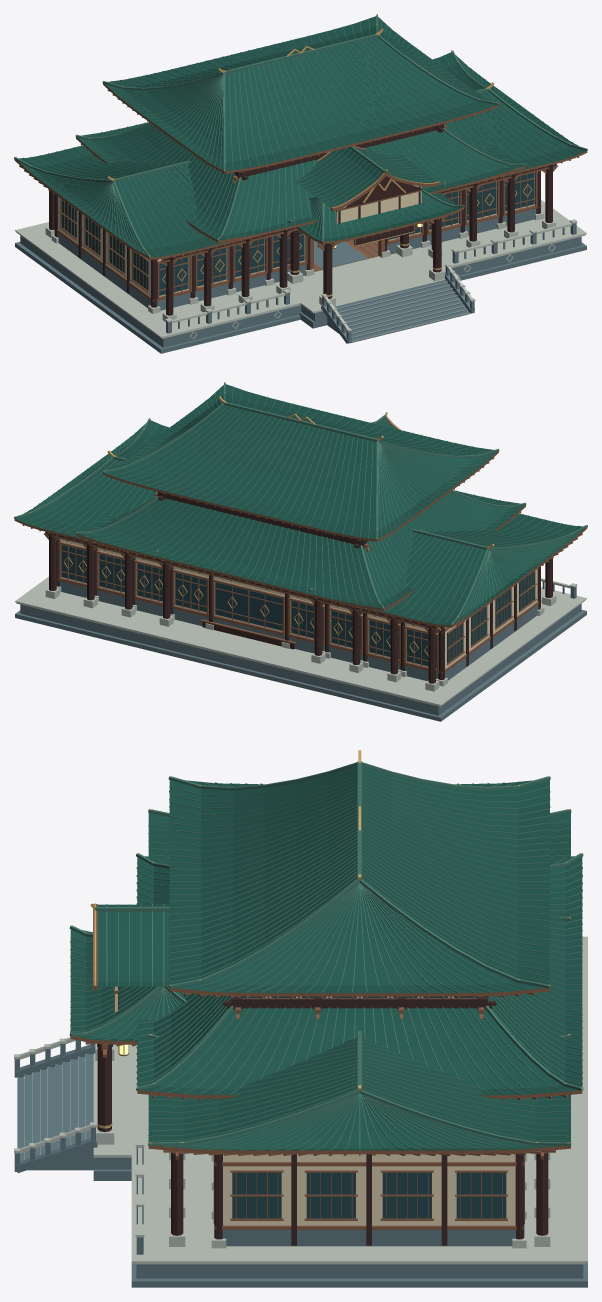
File: main_sect_hall_lod.glb
3 renders of one model, top to bottom at view 1: azimuth 30°, elevation 25°; view 2: azimuth 150°, elevation 25°; view 3: azimuth 270°, elevation 25°, orthographic. The views are drawn at different scales.
Visible parts, largest first — view 1: Hall / Jade, Hall / TileLight, Hall / Coping, Hall / Stone, Hall / Cedar, Hall / Timber, Hall / Window, Hall / Plaster, Hall / Bronze; view 2: Hall / Jade, Hall / TileLight, Hall / Coping, Hall / Stone, Hall / Cedar, Hall / Window, Hall / Timber, Hall / Plaster, Hall / Bronze; view 3: Hall / Jade, Hall / TileLight, Hall / Coping, Hall / Stone, Hall / Cedar, Hall / Timber, Hall / Window, Hall / Plaster.
Part boxes in pixels (<box>): Hall / Jade: <box>17,16,585,257</box>; Hall / TileLight: <box>14,14,587,257</box>; Hall / Coping: <box>15,200,586,341</box>; Hall / Stone: <box>15,208,586,353</box>; Hall / Cedar: <box>14,83,587,301</box>; Hall / Timber: <box>49,124,556,315</box>; Hall / Window: <box>60,172,534,295</box>; Hall / Plaster: <box>58,172,534,296</box>; Hall / Bronze: <box>14,14,587,296</box>; Hall / Jade: <box>16,384,584,625</box>; Hall / TileLight: <box>14,382,587,625</box>; Hall / Coping: <box>15,576,586,706</box>; Hall / Stone: <box>15,581,586,721</box>; Hall / Cedar: <box>14,416,587,674</box>; Hall / Window: <box>61,544,535,668</box>; Hall / Timber: <box>45,492,552,683</box>; Hall / Plaster: <box>59,539,537,669</box>; Hall / Bronze: <box>14,382,587,656</box>; Hall / Jade: <box>70,765,582,1150</box>; Hall / TileLight: <box>69,761,583,1150</box>; Hall / Coping: <box>14,936,587,1264</box>; Hall / Stone: <box>14,1040,587,1287</box>; Hall / Cedar: <box>70,790,582,1229</box>; Hall / Timber: <box>97,986,548,1245</box>; Hall / Window: <box>232,996,506,1218</box>; Hall / Plaster: <box>114,986,515,1225</box>.
Size of the model in its own units: 41.66 by 18.22 by 30.18.
